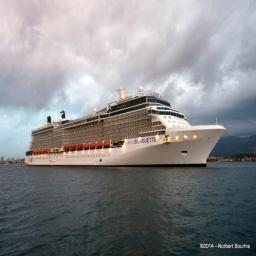cruises: (22, 81, 229, 173)
